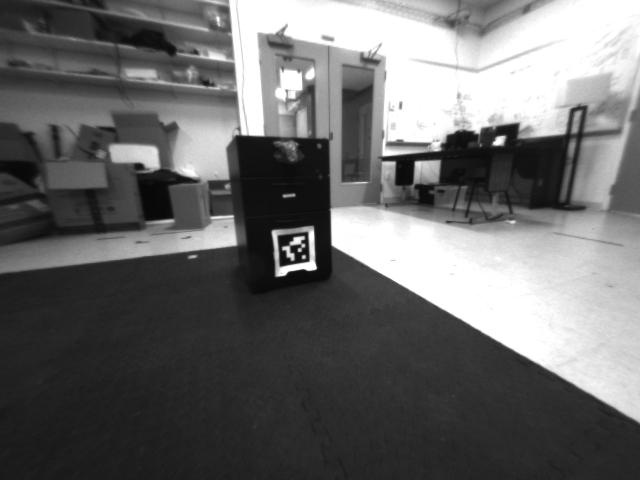drawer: (267, 135, 307, 170)
